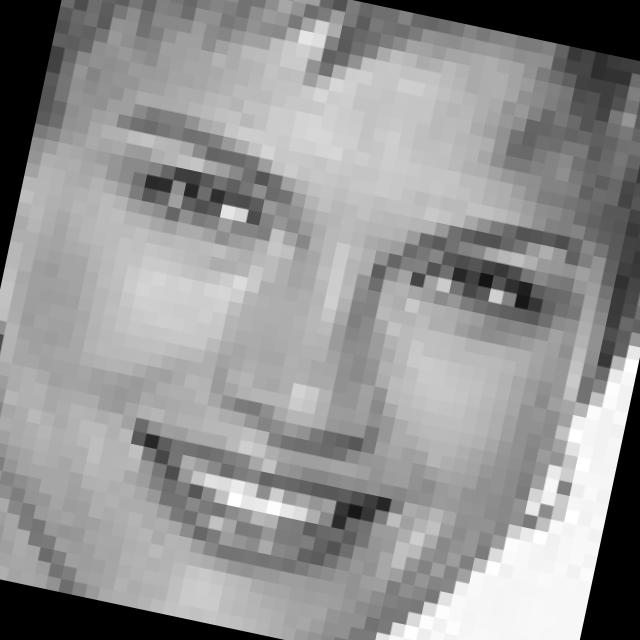happy: (31, 93, 602, 628)
